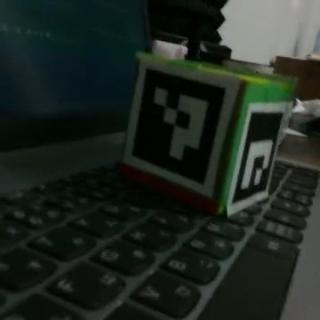armor: (124, 60, 240, 196), (228, 104, 284, 215)
robot: (122, 53, 291, 221)
